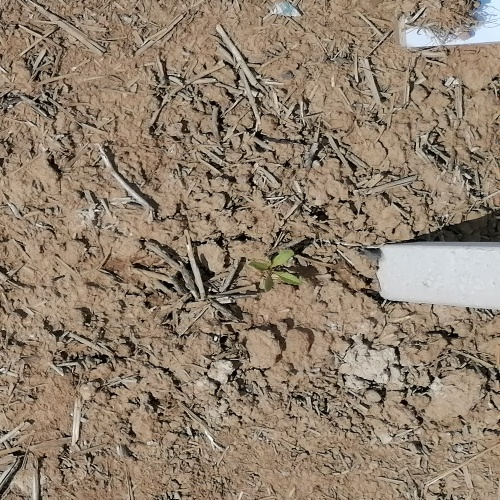beet: (249, 251, 298, 292)
